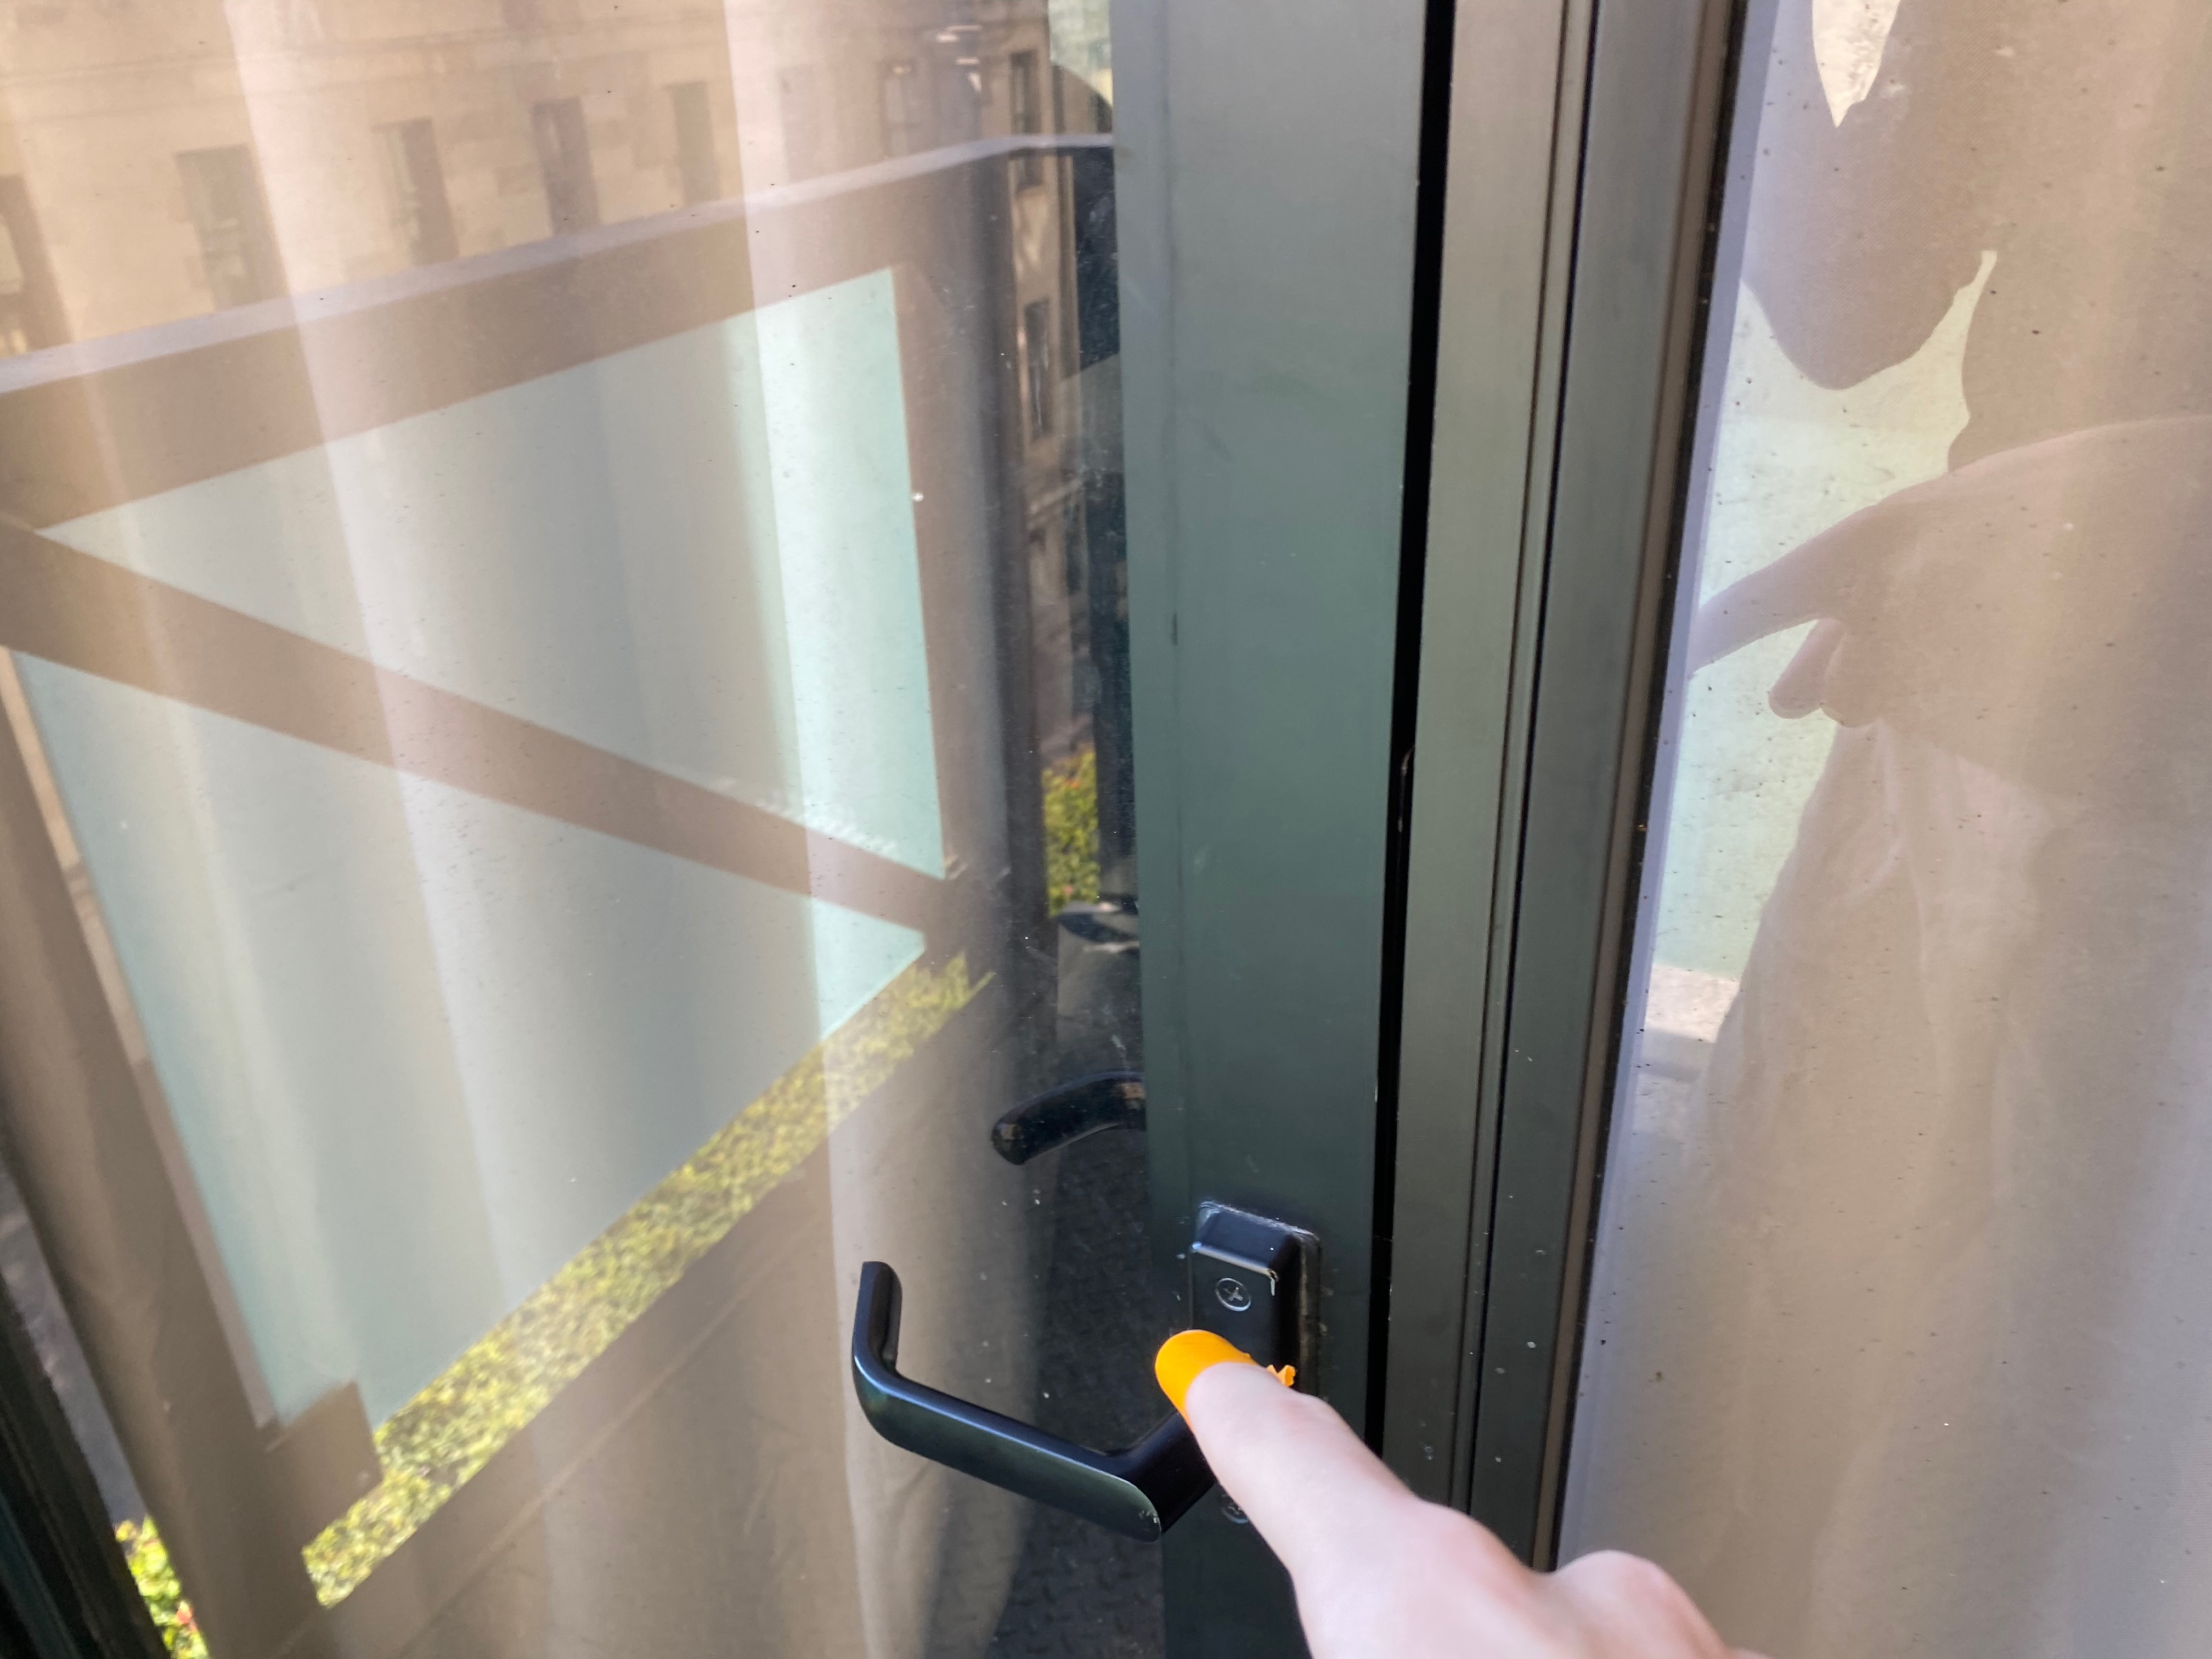fingertip: (1116, 1317, 1315, 1438)
